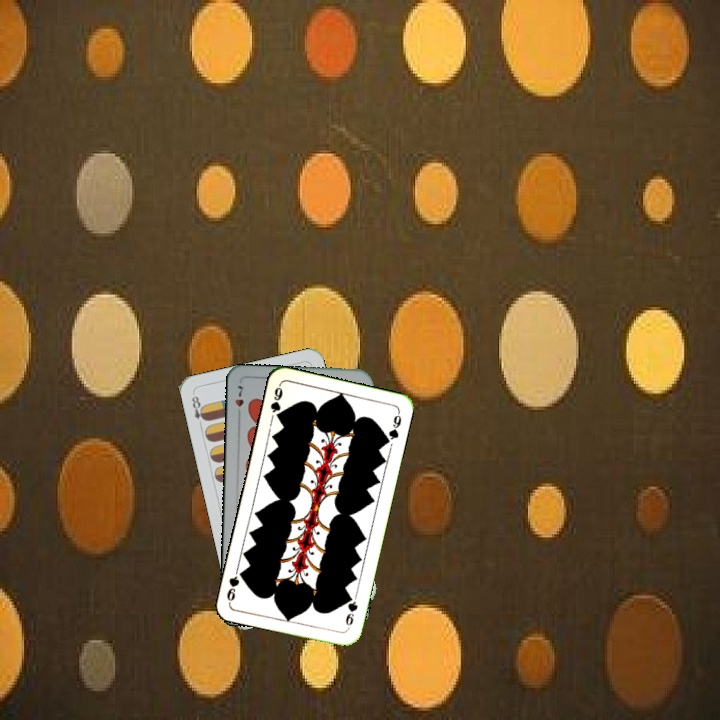E8: (187, 392, 209, 430)
G9: (266, 381, 285, 422), (341, 591, 360, 632)
H7: (231, 382, 246, 420)
